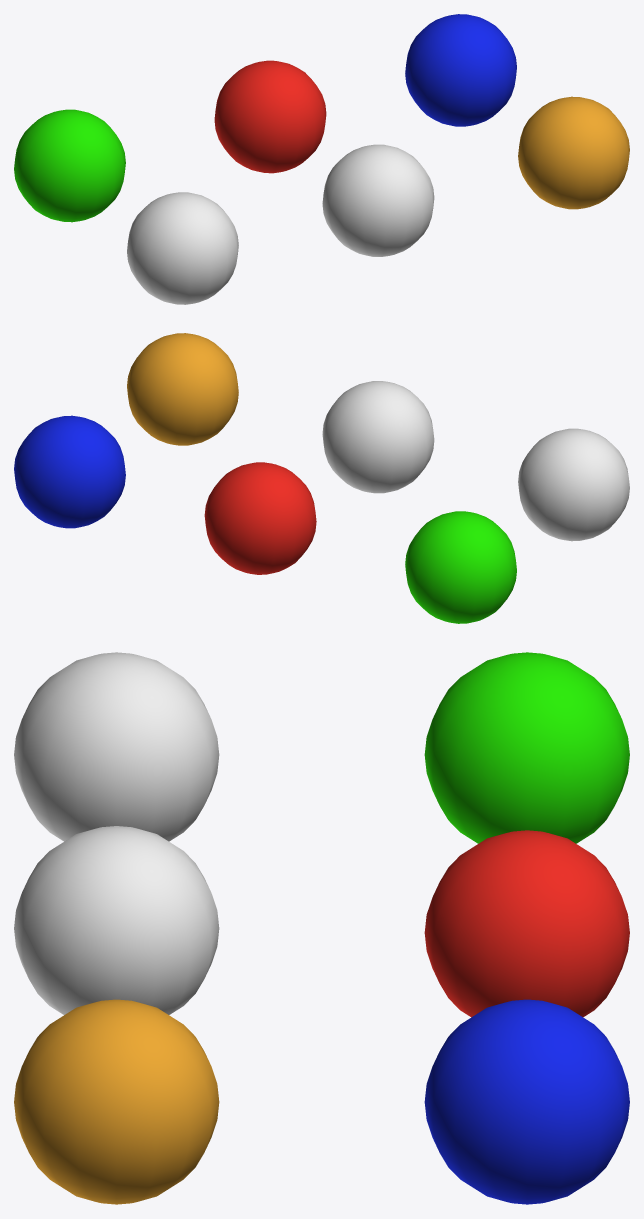
File: pbr.glb
3 views of the same model, one above another, from view 1: azimuth 30°, elevation 25°; view 2: azimuth 150°, elevation 25°; view 3: azimuth 270°, elevation 25° (orthographic). The views are drawn at different scales.
Visible parts, largest first — view 1: Sphere, Sphere.003, Sphere.001, Sphere.005, Sphere.002, Sphere.004; view 2: Sphere.005, Sphere.002, Sphere.004, Sphere.001, Sphere, Sphere.003; view 3: Sphere, Sphere.004, Sphere.003, Sphere.002, Sphere.001, Sphere.005.
Part boxes in pixels (box(x1,y1,x2,y2)): Sphere: box(518, 96, 629, 209); Sphere.003: box(14, 109, 125, 222); Sphere.001: box(322, 144, 434, 256); Sphere.005: box(214, 60, 326, 173); Sphere.002: box(127, 192, 238, 304); Sphere.004: box(405, 14, 516, 126); Sphere.005: box(204, 462, 316, 574); Sphere.002: box(518, 428, 629, 541); Sphere.004: box(14, 415, 125, 528); Sphere.001: box(322, 381, 434, 493); Sphere: box(127, 333, 238, 445); Sphere.003: box(405, 511, 516, 623); Sphere: box(14, 999, 219, 1204); Sphere.004: box(424, 999, 629, 1204); Sphere.003: box(424, 652, 629, 843); Sphere.002: box(14, 652, 219, 841); Sphere.001: box(14, 826, 219, 1014); Sphere.005: box(424, 830, 629, 1017).
Bounding box in the file's own units: 5 × 1 × 3.
